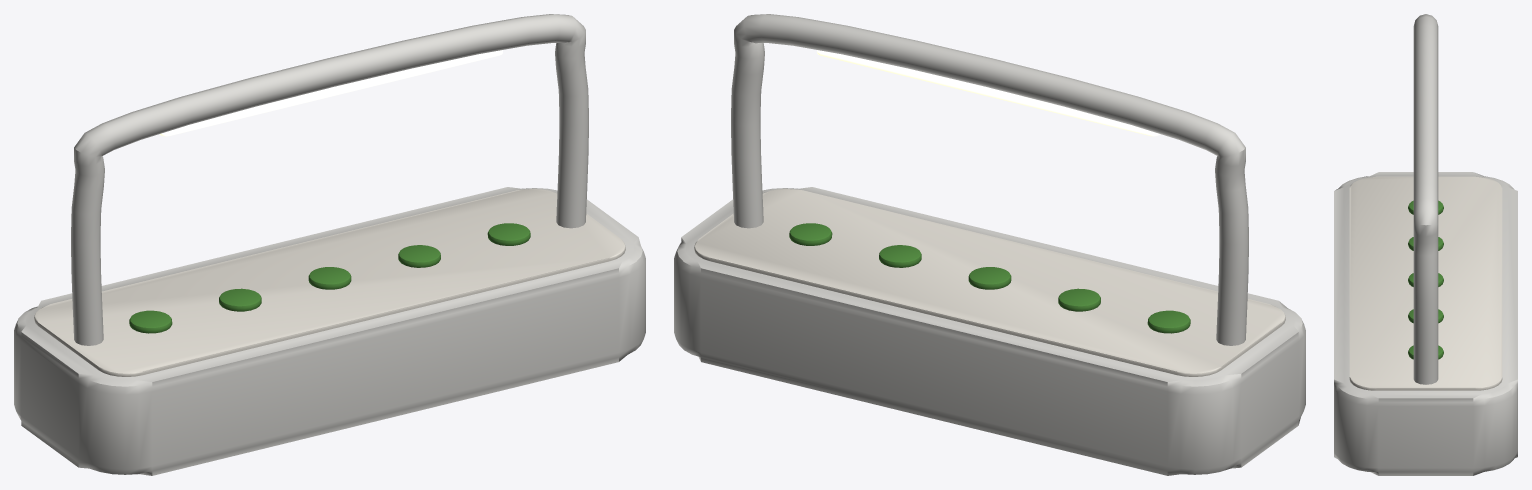
The picture shows the model from 3 angles, left to right: view 1: azimuth 30°, elevation 25°; view 2: azimuth 150°, elevation 25°; view 3: azimuth 270°, elevation 25°; orthographic projection. The views are drawn at different scales.
Parts seen in each view (by area): view 1: L023E1P42; view 2: L023E1P42; view 3: L023E1P42.
Part boxes in pixels (x1=…): L023E1P42: x1=14, y1=14, x2=645, y2=475; L023E1P42: x1=674, y1=14, x2=1305, y2=475; L023E1P42: x1=1334, y1=14, x2=1517, y2=475.
Size of the model in its own units: 0.48 by 0.261 by 0.165.
